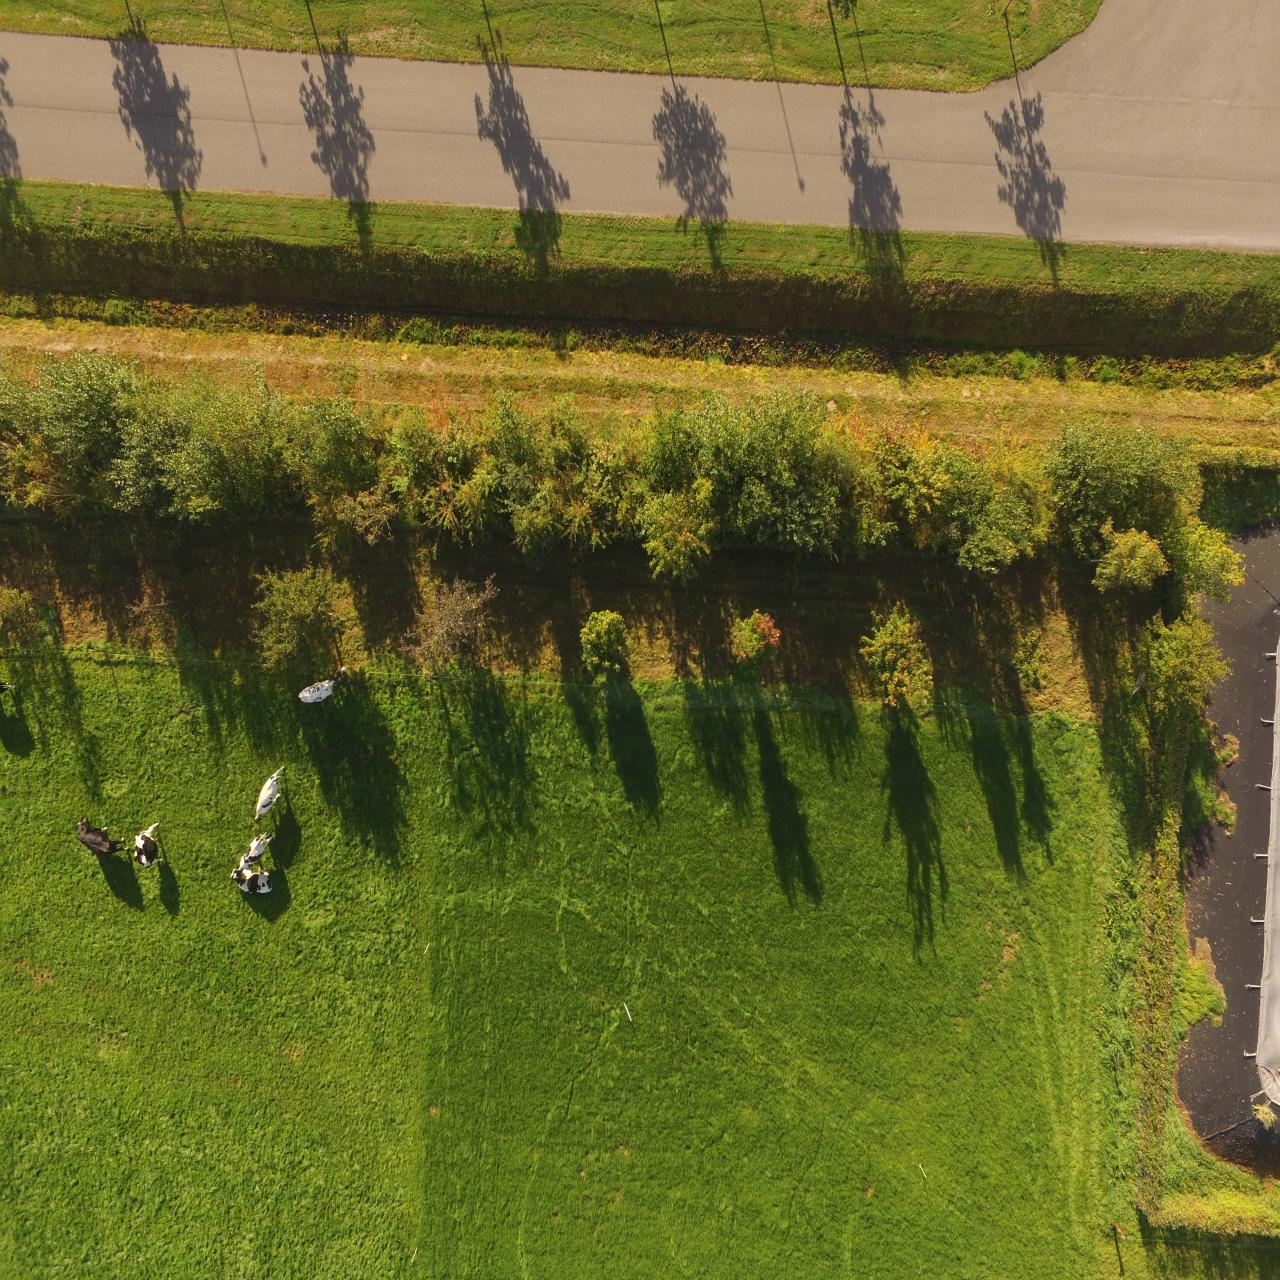cow: (66, 809, 129, 865), (244, 761, 285, 825), (125, 816, 165, 879), (285, 675, 348, 712), (227, 866, 284, 903), (230, 831, 270, 864)
